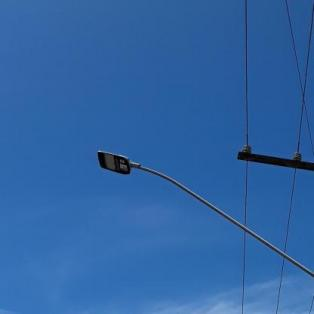Poste: (308, 148, 314, 314)
